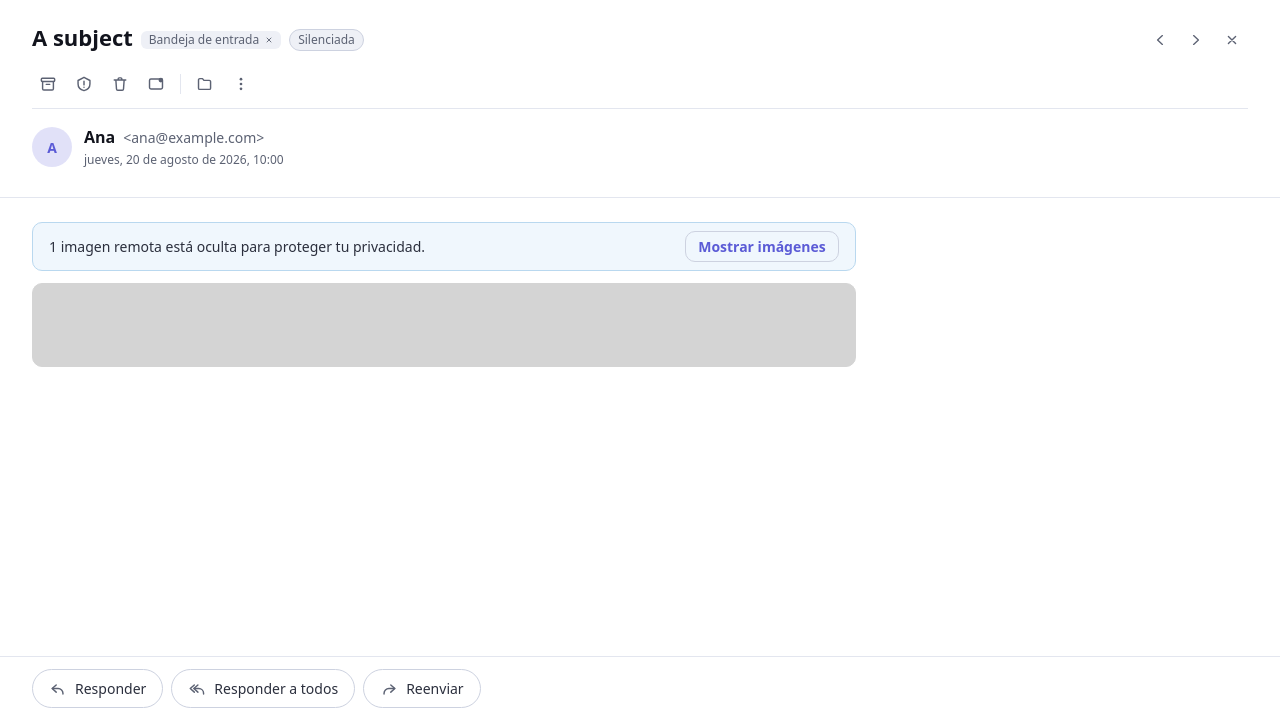
Scenario: E4: snooze and mute in the reader › keeps the badge and the menu item agreeing about the same fact
Expected: the text "Silenciada" is shown, x1=289 y1=29 x2=364 y2=51
Click the button named "más acciones": (241, 84) x1=225 y1=68 x2=257 y2=100
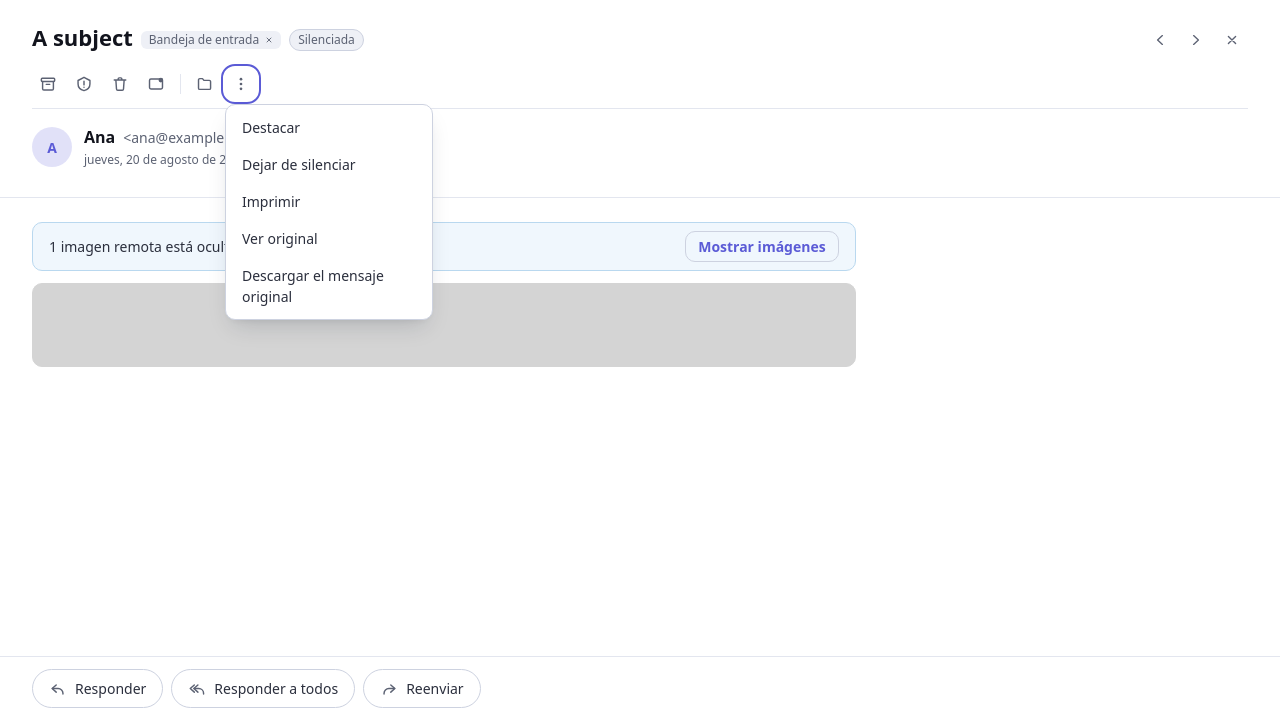
Expected: the menu item "Dejar de silenciar" is shown, x1=230 y1=146 x2=428 y2=183
